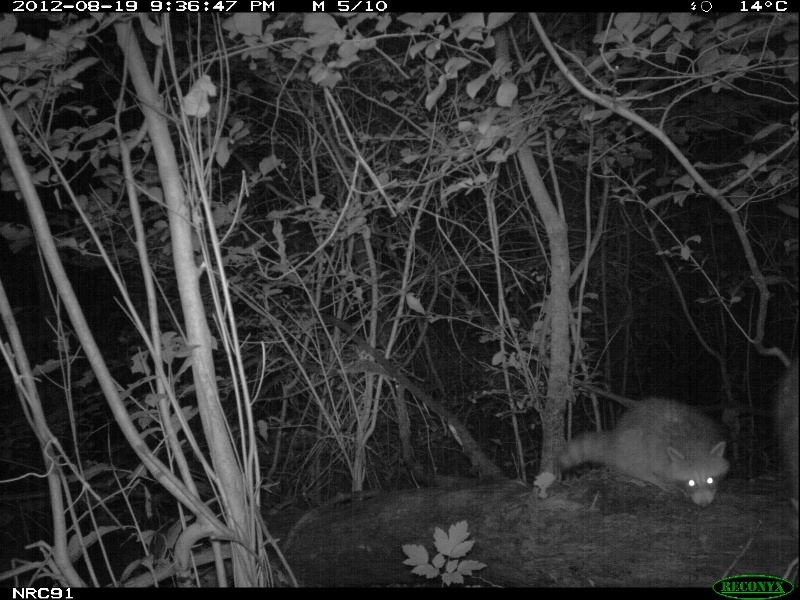raccoon: (557, 396, 730, 509)
